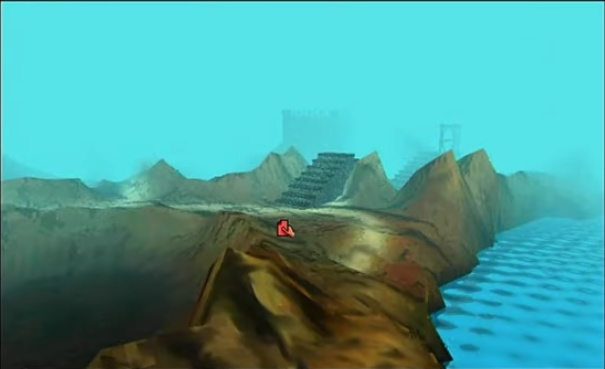Keep: (274, 216, 297, 240)
